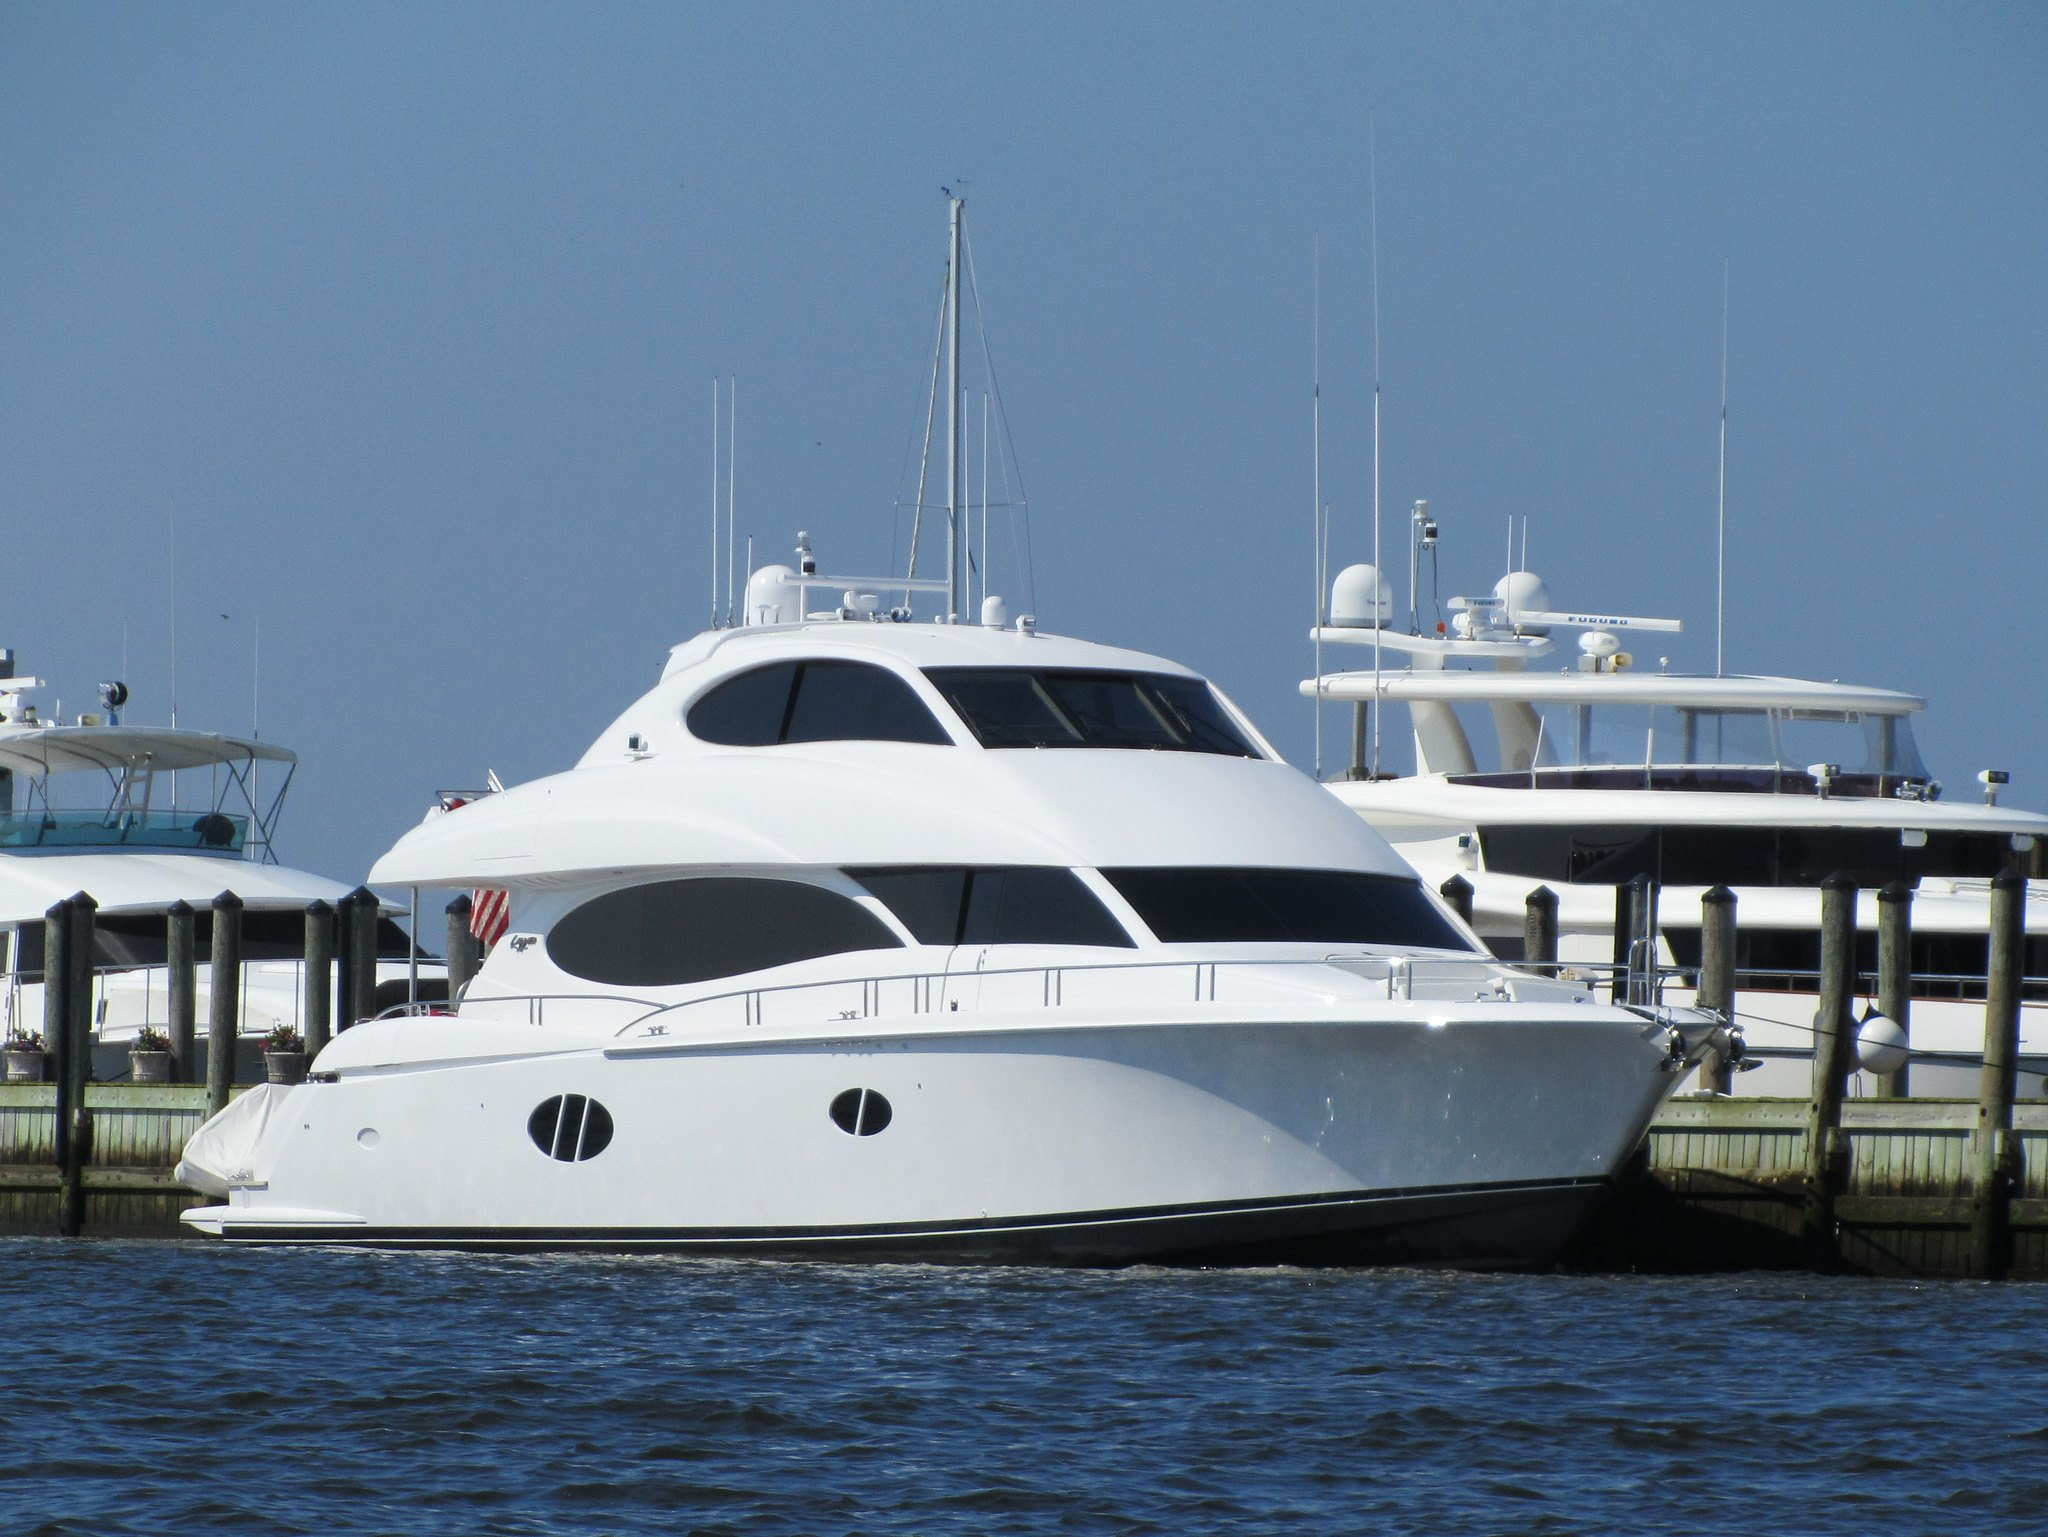boat: (181, 554, 1722, 1284)
